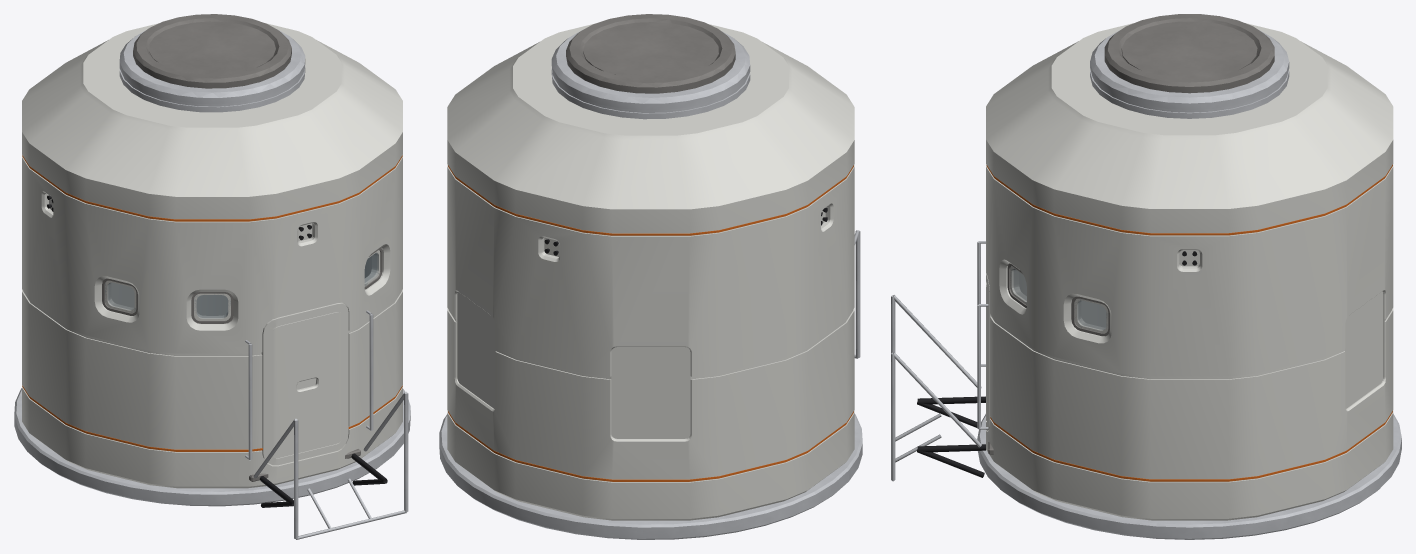
The model's file is ax_cmd_05_lander_crew_cabin.glb.
The picture shows the model from 3 angles, left to right: view 1: azimuth 30°, elevation 25°; view 2: azimuth 150°, elevation 25°; view 3: azimuth 270°, elevation 25°; orthographic projection. The views are drawn at different scales.
Visible parts, largest first — view 1: shell, hatch_door_1, interface_ring, docking_collar, docking_hatch, docking_port, porch_rails, orange_stripes, window_glass, handrails, porch_struts, window_frames; view 2: shell, interface_ring, docking_collar, docking_hatch, docking_port, orange_stripes, porch_rails; view 3: shell, interface_ring, docking_collar, docking_hatch, docking_port, orange_stripes, porch_rails, porch_struts, window_glass, handrails, hatch_door_1.
Part boxes in pixels (<box>): shell: <box>22,23,402,488</box>; hatch_door_1: <box>261,302,348,465</box>; interface_ring: <box>14,388,410,506</box>; docking_collar: <box>119,29,305,112</box>; docking_hatch: <box>149,21,275,74</box>; docking_port: <box>133,14,291,88</box>; porch_rails: <box>253,391,408,539</box>; orange_stripes: <box>22,155,402,451</box>; window_glass: <box>105,253,378,318</box>; handrails: <box>245,310,373,460</box>; porch_struts: <box>260,453,387,507</box>; window_frames: <box>102,248,382,323</box>; shell: <box>447,23,854,520</box>; interface_ring: <box>439,414,862,539</box>; docking_collar: <box>551,30,750,119</box>; docking_hatch: <box>583,22,718,78</box>; docking_port: <box>566,14,735,93</box>; orange_stripes: <box>448,165,853,481</box>; porch_rails: <box>854,230,860,358</box>; shell: <box>986,23,1393,520</box>; interface_ring: <box>977,414,1401,539</box>; docking_collar: <box>1090,29,1289,118</box>; docking_hatch: <box>1121,21,1257,78</box>; docking_port: <box>1104,14,1274,93</box>; orange_stripes: <box>986,164,1392,481</box>; porch_rails: <box>891,295,981,481</box>; porch_struts: <box>917,396,985,477</box>; window_glass: <box>1011,269,1107,330</box>; handrails: <box>977,241,988,429</box>; hatch_door_1: <box>986,273,991,430</box>.
Bounding box in the file's own units: 3.75 × 3.95 × 4.51.
7 materials, 3 textured.
